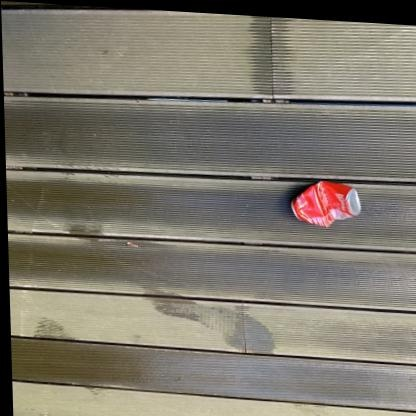trash: (291, 181, 360, 226)
